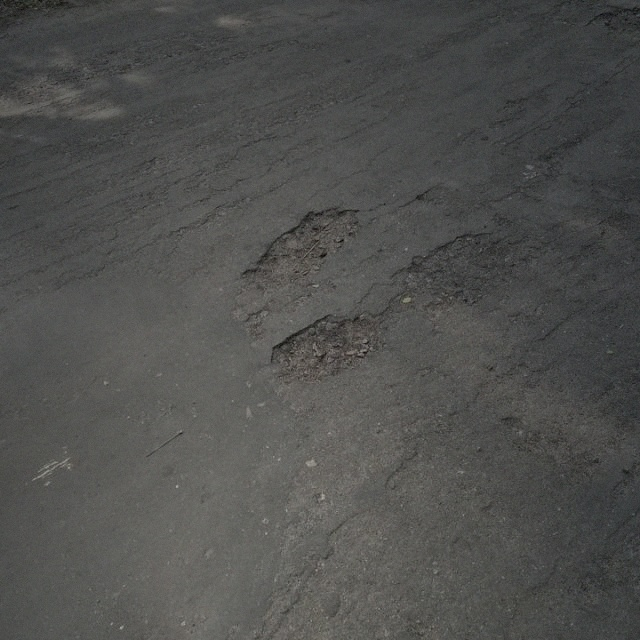pothole: (235, 201, 364, 291), (383, 228, 522, 310), (265, 310, 381, 388)
